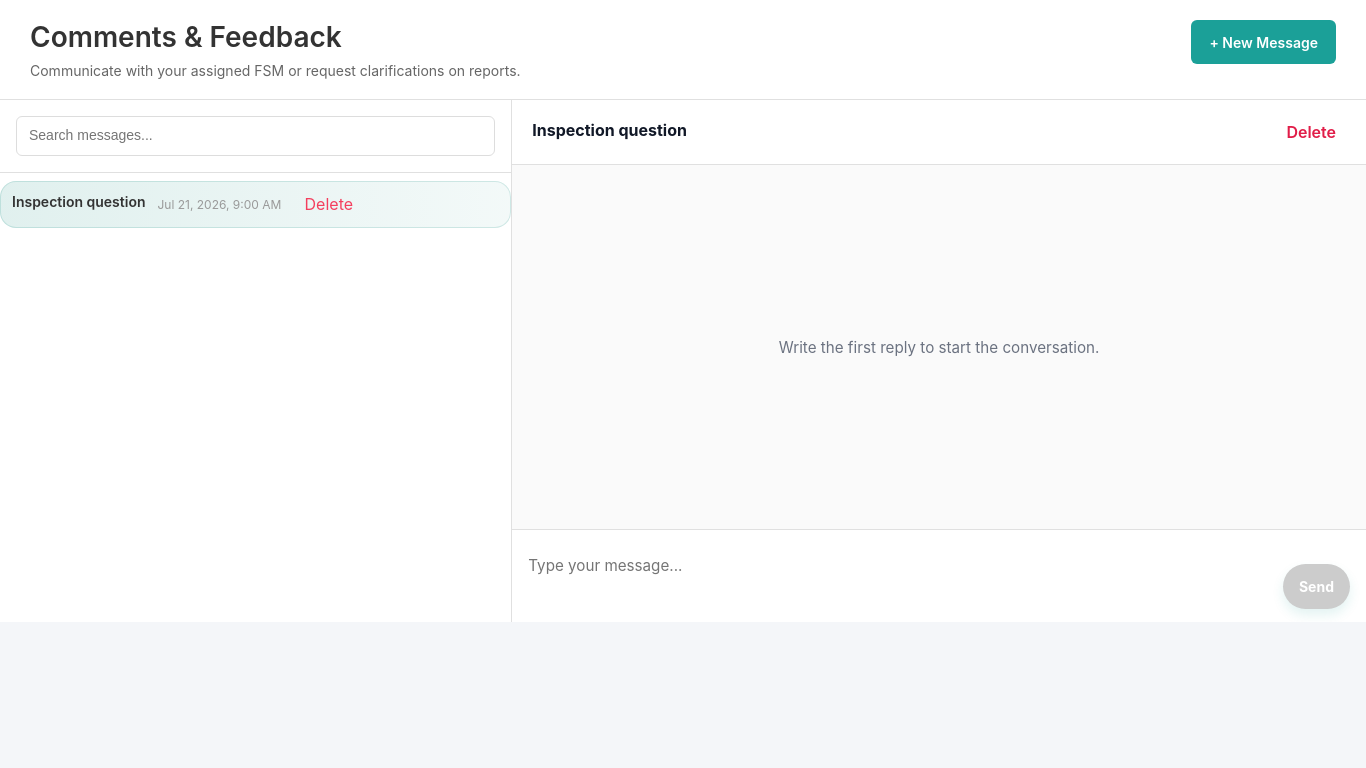
shows a reply immediately while Firestore is still saving it
Type "Can you check this today?" into the text box named "Reply message" at (900, 576), box [528, 544, 1271, 609]
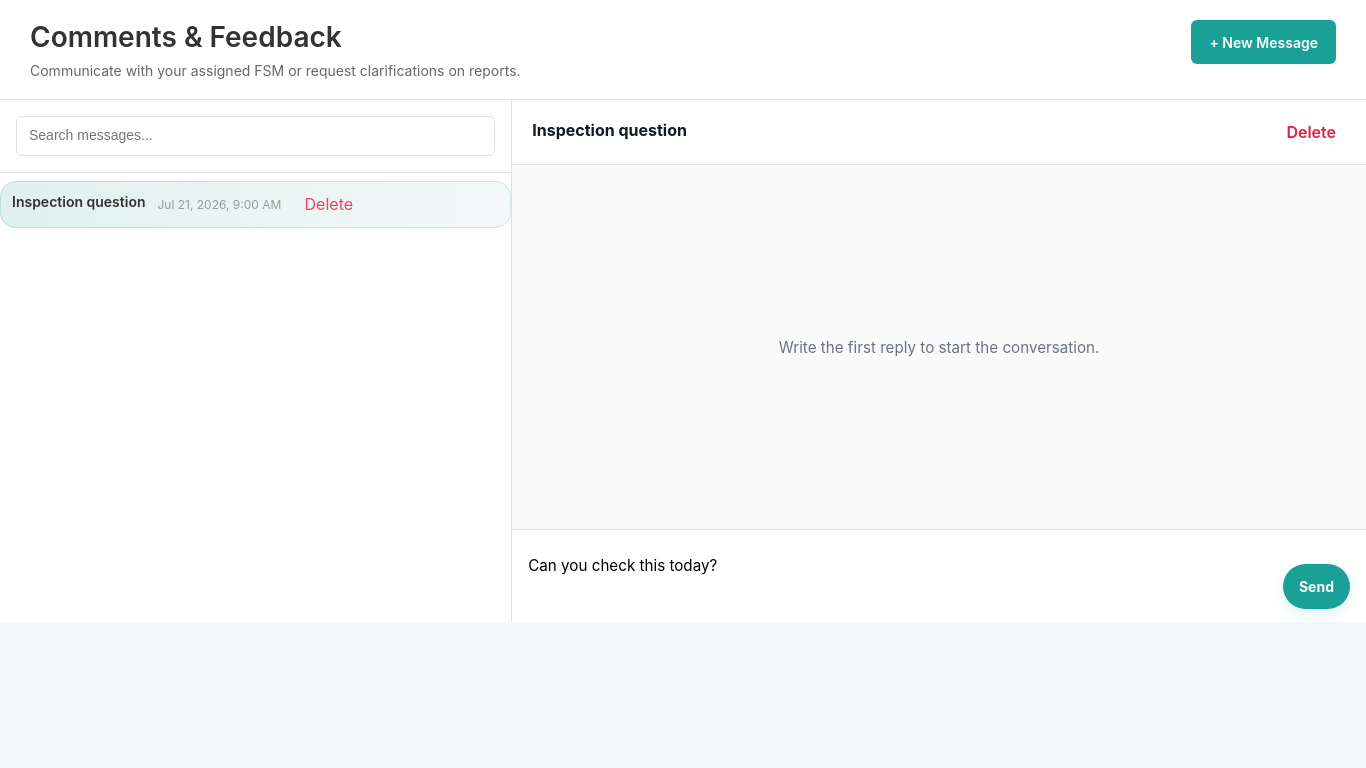
Click the button "Send" at (1316, 586), box [1283, 564, 1350, 609]
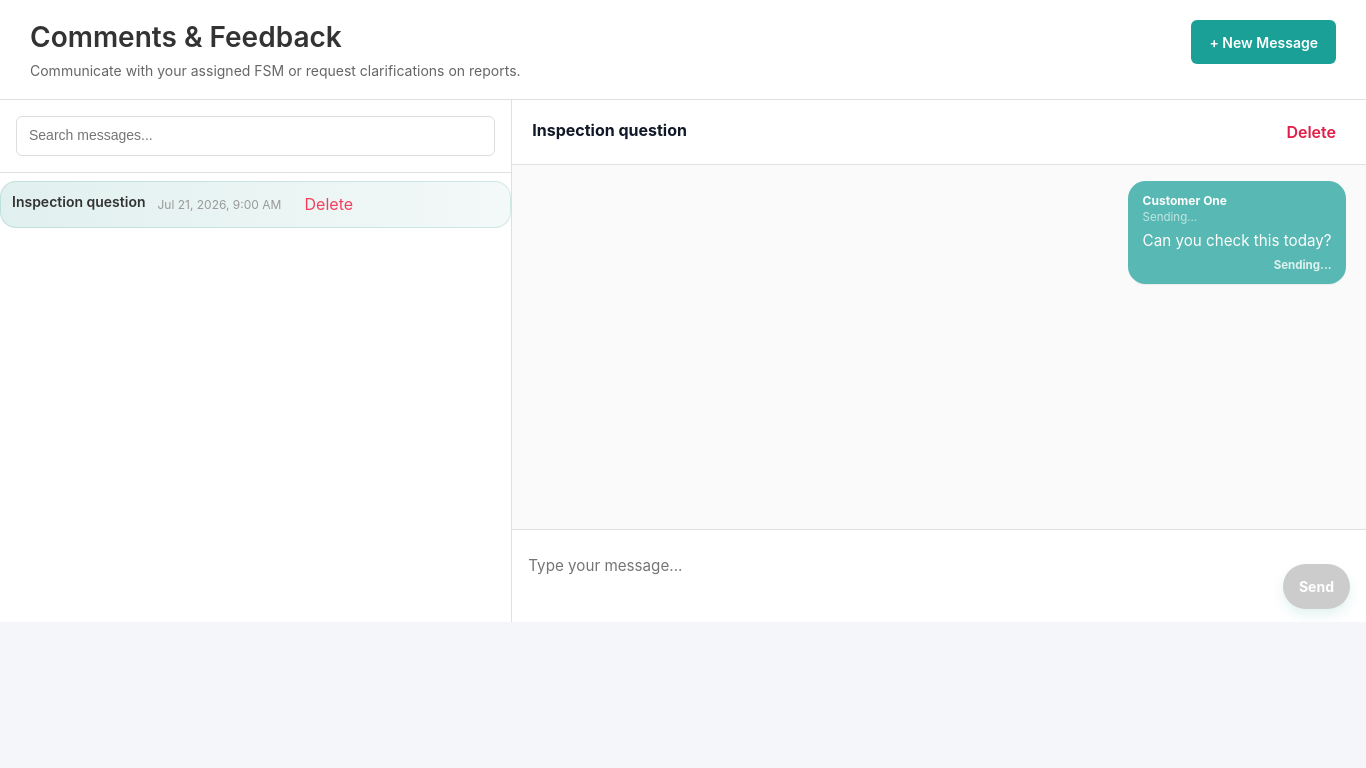
Result: the text "Can you check this today?" is shown at [1143, 230, 1332, 253]
Result: the text "Sending..." below "Customer One" is shown at [1143, 210, 1197, 224]
Result: the text box named "Reply message" is empty at [528, 544, 1271, 609]
